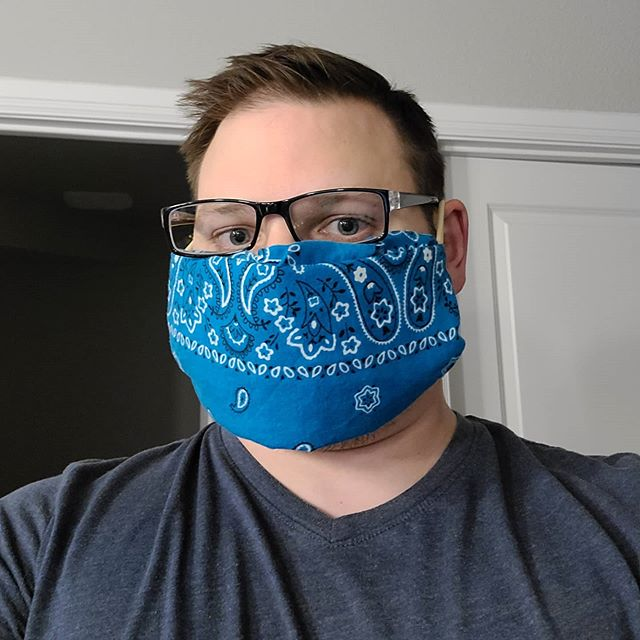homemade: (149, 235, 505, 443)
